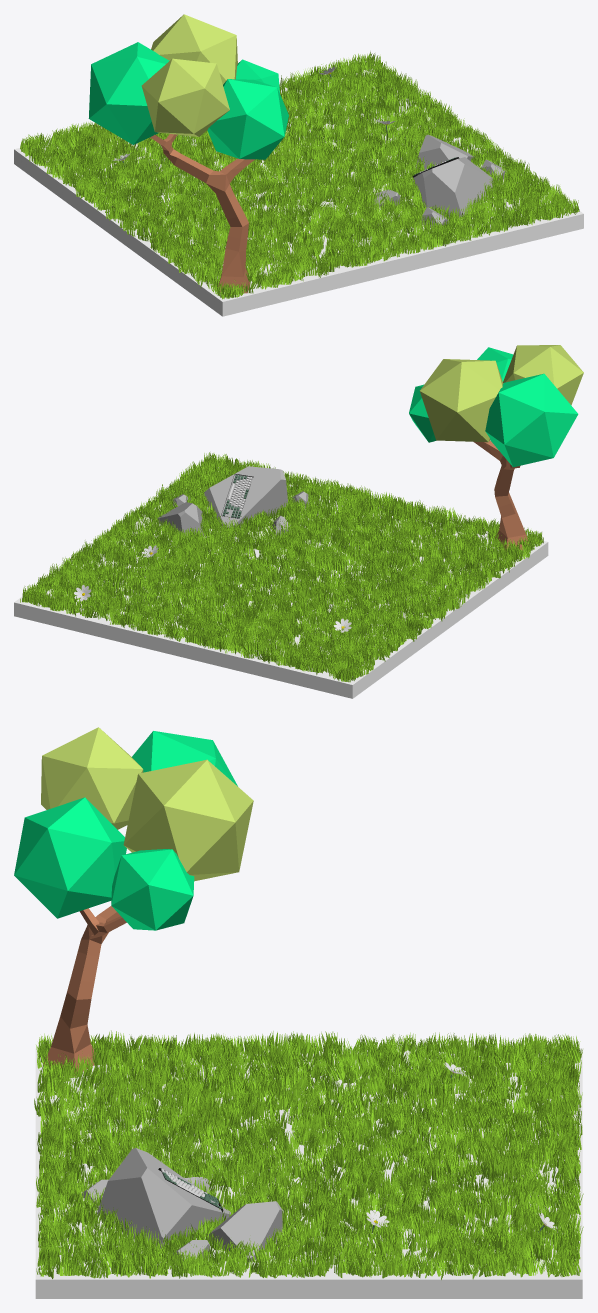
The model's file is untitledv3.glb.
3 renders of one model, top to bottom at view 1: azimuth 30°, elevation 25°; view 2: azimuth 150°, elevation 25°; view 3: azimuth 270°, elevation 25°, orthographic. The views are drawn at different scales.
Parts seen in each view (by area): view 1: Stage, Icosphere.004, Icosphere.005, Icosphere.001, Trunk, Icosphere.003, Big Rock, Medium Rock, Icosphere; view 2: Stage, Icosphere.004, Icosphere.003, Big Rock, Icosphere.005, Trunk, Medium Rock, Cube.011, Icosphere, Icosphere.001; view 3: Stage, Icosphere.003, Icosphere.001, Big Rock, Icosphere.005, Icosphere, Trunk, Icosphere.004, Medium Rock.
Part boxes in pixels (<box>): Stage: <box>14,61,583,316</box>; Icosphere.004: <box>88,42,169,144</box>; Icosphere.005: <box>141,58,229,136</box>; Icosphere.001: <box>207,79,288,159</box>; Trunk: <box>150,134,254,293</box>; Icosphere.003: <box>151,14,237,84</box>; Big Rock: <box>413,157,493,218</box>; Medium Rock: <box>416,134,476,169</box>; Icosphere: <box>236,59,279,92</box>; Stage: <box>14,466,548,698</box>; Icosphere.004: <box>485,373,578,467</box>; Icosphere.003: <box>420,359,503,442</box>; Big Rock: <box>204,466,288,527</box>; Icosphere.005: <box>503,345,583,405</box>; Trunk: <box>473,440,528,550</box>; Medium Rock: <box>157,502,203,538</box>; Cube.011: <box>220,474,253,518</box>; Icosphere: <box>409,384,436,442</box>; Icosphere.001: <box>477,347,513,381</box>; Stage: <box>35,1048,582,1298</box>; Icosphere.003: <box>123,759,253,881</box>; Icosphere.001: <box>14,797,126,918</box>; Big Rock: <box>97,1148,230,1248</box>; Icosphere.005: <box>41,727,143,829</box>; Icosphere: <box>111,849,194,930</box>; Trunk: <box>42,906,126,1075</box>; Icosphere.004: <box>132,731,237,786</box>; Medium Rock: <box>207,1201,282,1261</box>.
Size of what is drawn, in the model's own units: 7.26 by 3.94 by 6.25.
